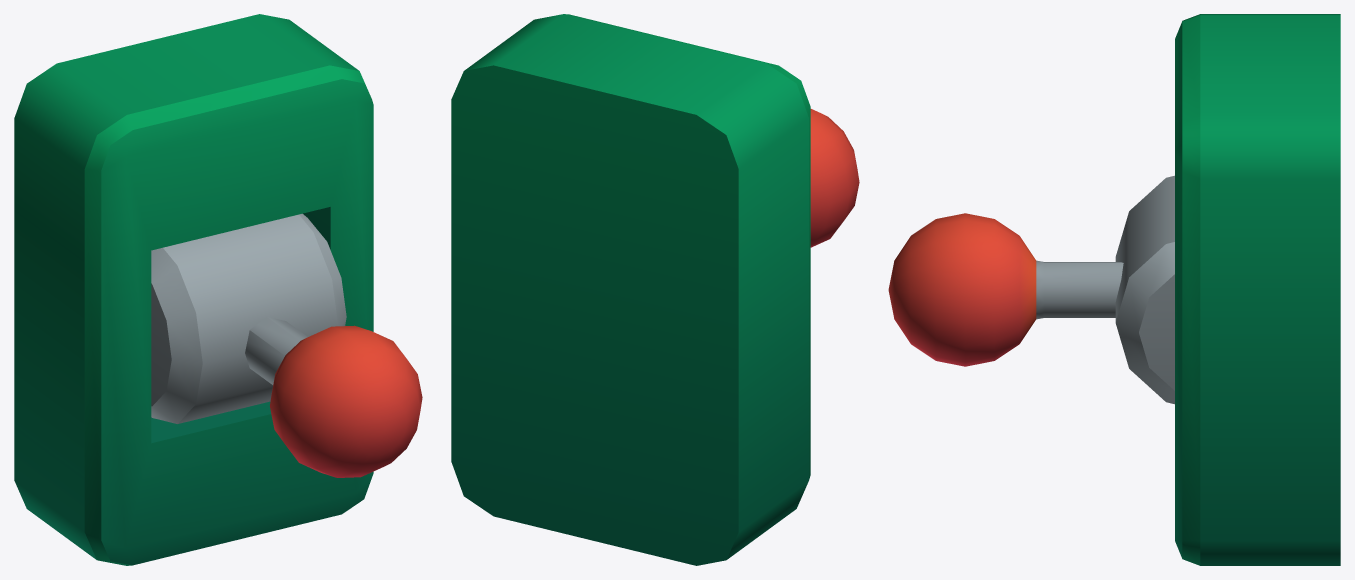
The model's file is kaykit_lever_wall_base_A_green.glb.
3 renders of one model, left to right at view 1: azimuth 30°, elevation 25°; view 2: azimuth 150°, elevation 25°; view 3: azimuth 270°, elevation 25°, orthographic.
Parts seen in each view (by area): view 1: lever_wall_base_A_green_visual, lever_wall_A_green_visual; view 2: lever_wall_base_A_green_visual, lever_wall_A_green_visual; view 3: lever_wall_base_A_green_visual, lever_wall_A_green_visual.
Part boxes in pixels (bbox=[...]): lever_wall_base_A_green_visual: bbox=[14, 14, 373, 565]; lever_wall_A_green_visual: bbox=[151, 213, 422, 477]; lever_wall_base_A_green_visual: bbox=[451, 14, 810, 565]; lever_wall_A_green_visual: bbox=[810, 109, 859, 247]; lever_wall_base_A_green_visual: bbox=[1175, 14, 1340, 565]; lever_wall_A_green_visual: bbox=[888, 175, 1174, 404].
Size of what is drawn, in the model's own units: 0.8 by 1.2 by 1.09.
Materials: 1 (1 with a texture image).
